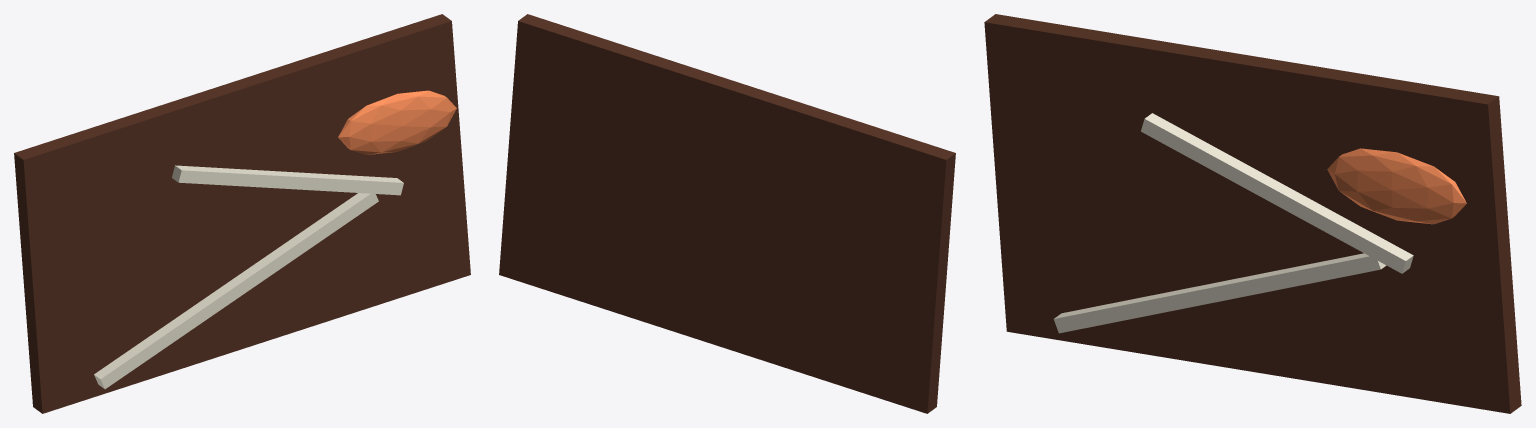
The model's file is 06_weathering_wear_overlay_6.glb.
3 renders of one model, left to right at view 1: azimuth 30°, elevation 25°; view 2: azimuth 150°, elevation 25°; view 3: azimuth 330°, elevation 25°, orthographic. The views are drawn at different scales.
Visible parts, largest first — view 1: wear_plate, scratch_a, rust_or_moss_spot, scratch_b; view 2: wear_plate; view 3: wear_plate, rust_or_moss_spot, scratch_b, scratch_a.
Part boxes in pixels (left/top/right/bottom): wear_plate: left=14, top=14, right=470, bottom=413; scratch_a: left=94, top=193, right=378, bottom=389; rust_or_moss_spot: left=338, top=90, right=456, bottom=154; scratch_b: left=172, top=165, right=403, bottom=195; wear_plate: left=499, top=14, right=955, bottom=413; wear_plate: left=984, top=14, right=1521, bottom=413; rust_or_moss_spot: left=1327, top=148, right=1466, bottom=224; scratch_b: left=1141, top=113, right=1413, bottom=273; scratch_a: left=1053, top=253, right=1386, bottom=333.
Size of the model in its own units: 1.35 by 0.8476 by 0.134.
